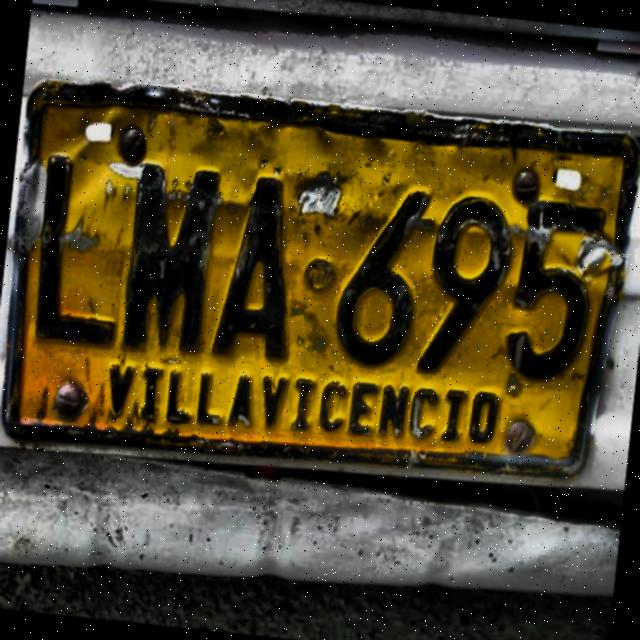plate: (11, 94, 629, 470)
